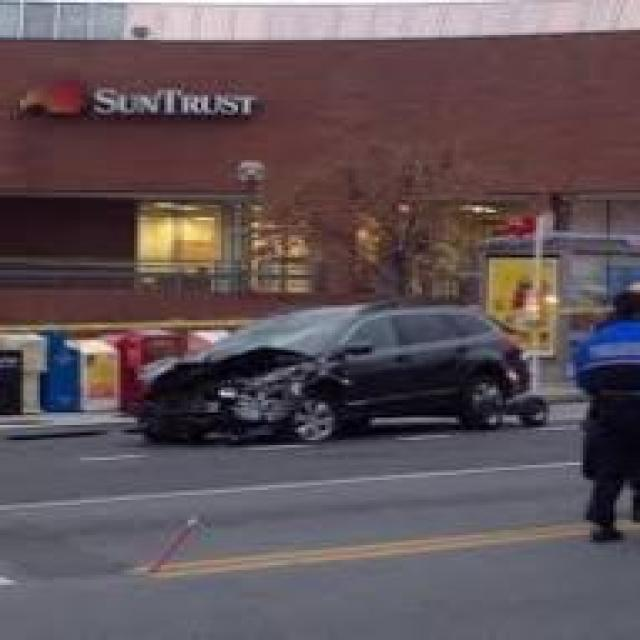Bonnet: (145, 349, 328, 395)
Bumper: (134, 399, 292, 437)
Fender: (236, 360, 332, 421)
